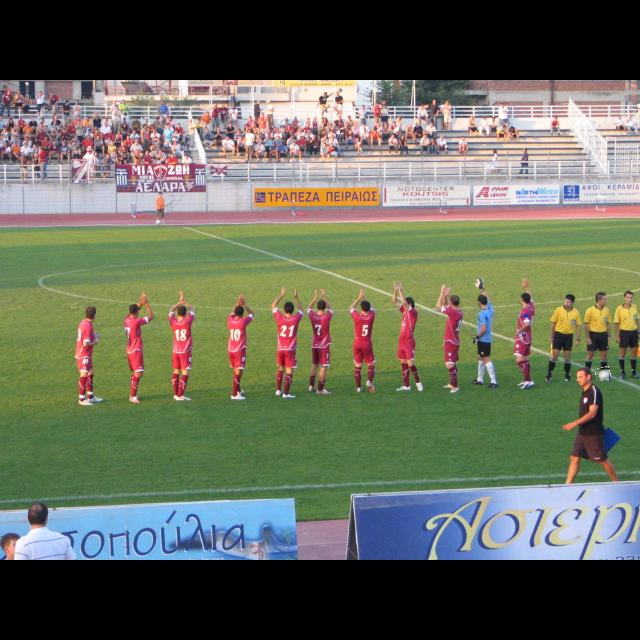Football: (596, 368, 610, 380)
